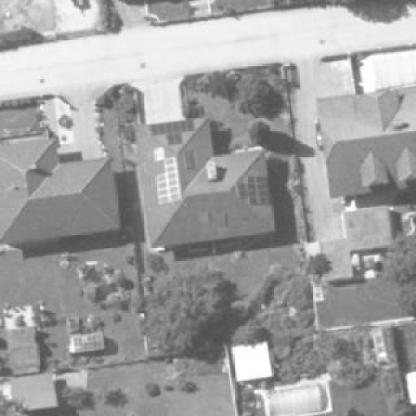solar-pv-panel: (155, 157, 182, 205), (151, 119, 194, 146), (237, 176, 268, 205)
